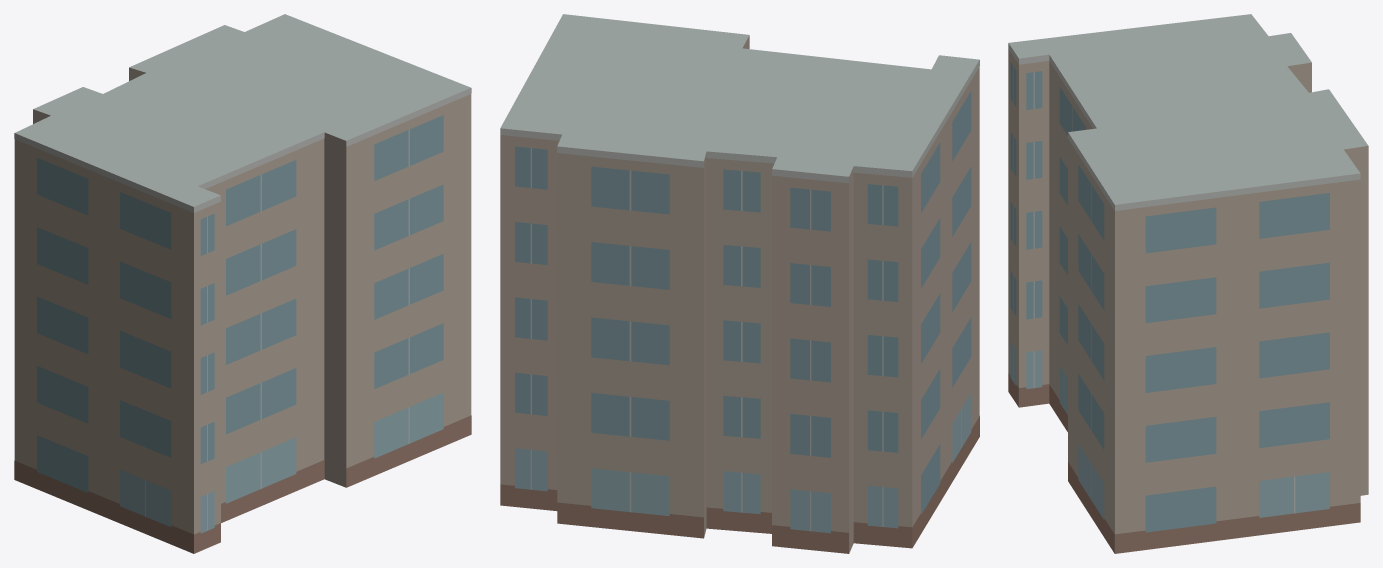
File: survey-upis-32751885.glb
The picture shows the model from 3 angles, left to right: view 1: azimuth 30°, elevation 25°; view 2: azimuth 150°, elevation 25°; view 3: azimuth 270°, elevation 25°; orthographic projection. The views are drawn at different scales.
Visible parts, largest first — view 1: survey-upis-32751885.tmp; view 2: survey-upis-32751885.tmp; view 3: survey-upis-32751885.tmp.
Boxes of the visible parts, <box> form: survey-upis-32751885.tmp: <box>14,14,471,553</box>; survey-upis-32751885.tmp: <box>500,14,979,553</box>; survey-upis-32751885.tmp: <box>1008,14,1368,553</box>.
Bounding box in the file's own units: 16.44 × 14 × 13.1.
